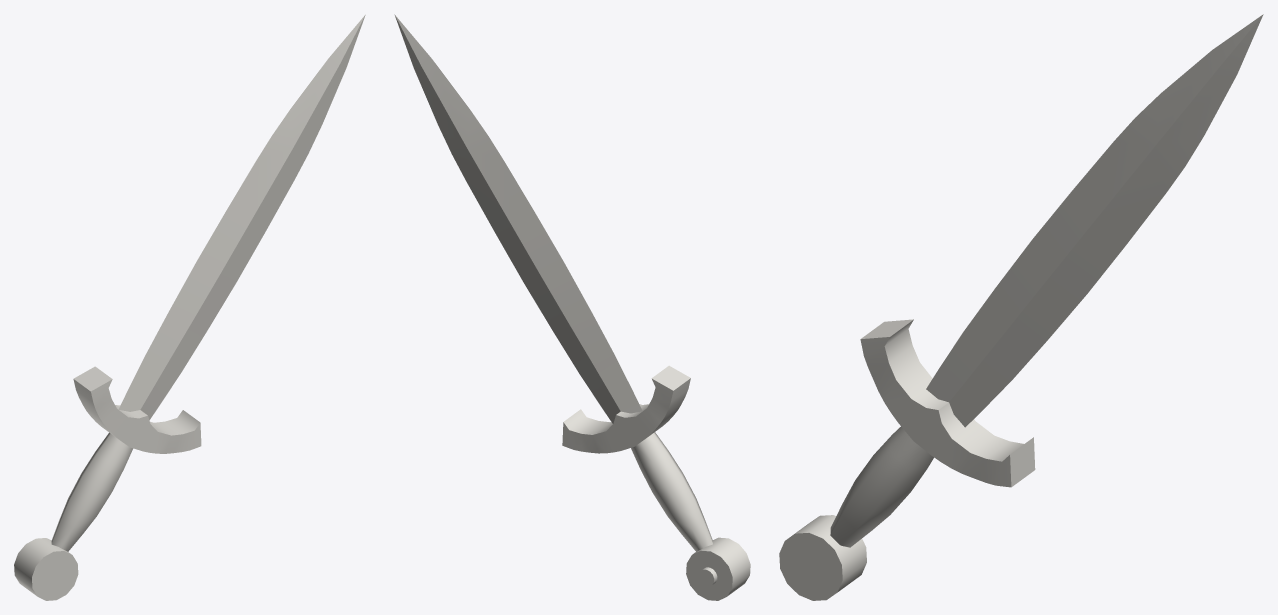
File: épée_3d.glb
3 renders of one model, left to right at view 1: azimuth 30°, elevation 25°; view 2: azimuth 150°, elevation 25°; view 3: azimuth 330°, elevation 25°, orthographic. The views are drawn at different scales.
Visible parts, largest first — view 1: node_id34, node_id36; view 2: node_id34, node_id36; view 3: node_id34, node_id36.
Part boxes in pixels (x1=…): node_id34: x1=118, y1=14, x2=365, y2=420; node_id36: x1=14, y1=366, x2=201, y2=600; node_id34: x1=394, y1=14, x2=642, y2=423; node_id36: x1=562, y1=365, x2=750, y2=600; node_id34: x1=926, y1=14, x2=1263, y2=427; node_id36: x1=779, y1=319, x2=1035, y2=600.
Size of the model in its own units: 0.3043 by 0.4224 by 0.032.
Materials: 2 (2 with a texture image).
